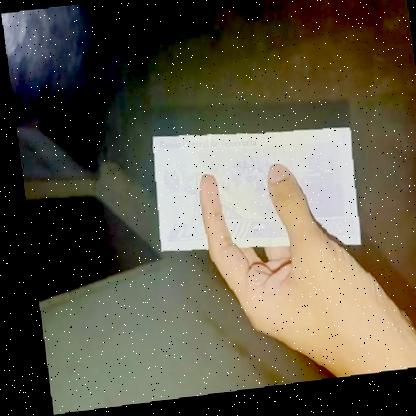two_hundred-back-vef: (147, 125, 356, 268)
